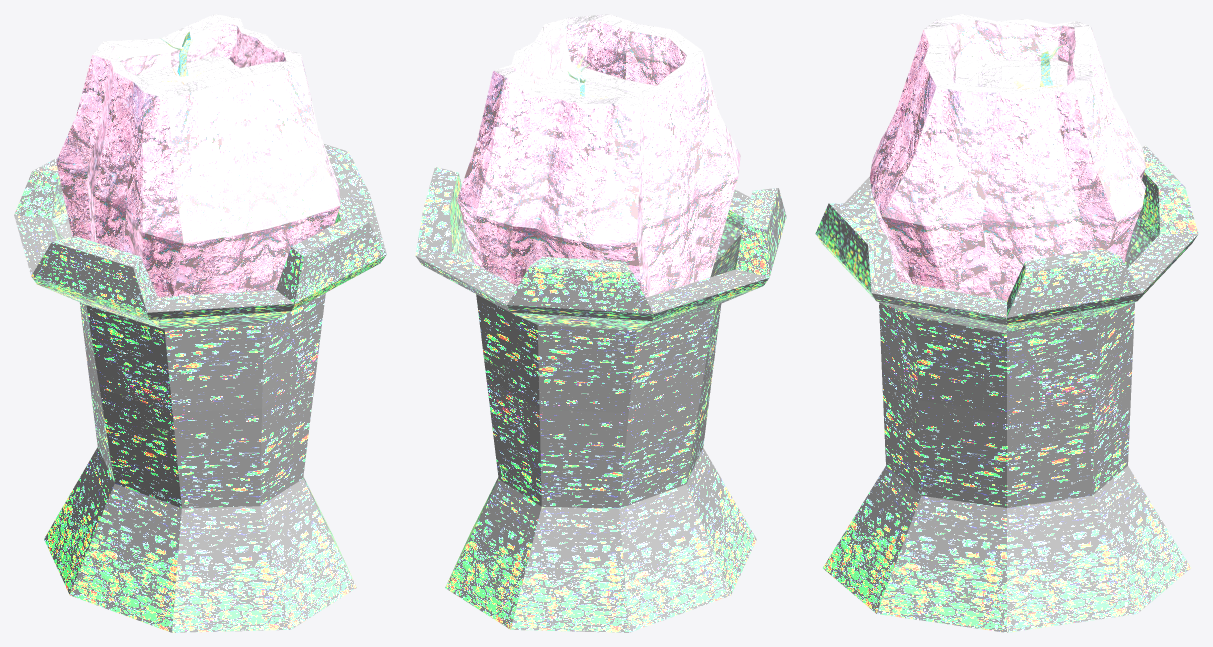
File: lone_star.glb
3 views of the same model, side by side, from view 1: azimuth 30°, elevation 25°; view 2: azimuth 150°, elevation 25°; view 3: azimuth 270°, elevation 25° (orthographic). The views are drawn at different scales.
Parts seen in each view (by area): view 1: castle_tower, LoneStar; view 2: castle_tower, LoneStar; view 3: castle_tower, LoneStar.
Part boxes in pixels (x1,y1,x2,y2): castle_tower: (14,144,386,632); LoneStar: (56,14,340,297); castle_tower: (415,167,786,632); LoneStar: (457,14,740,297); castle_tower: (815,145,1198,632); LoneStar: (869,14,1145,300).
Size of the model in its own units: 40.64 by 59.82 by 39.15.
